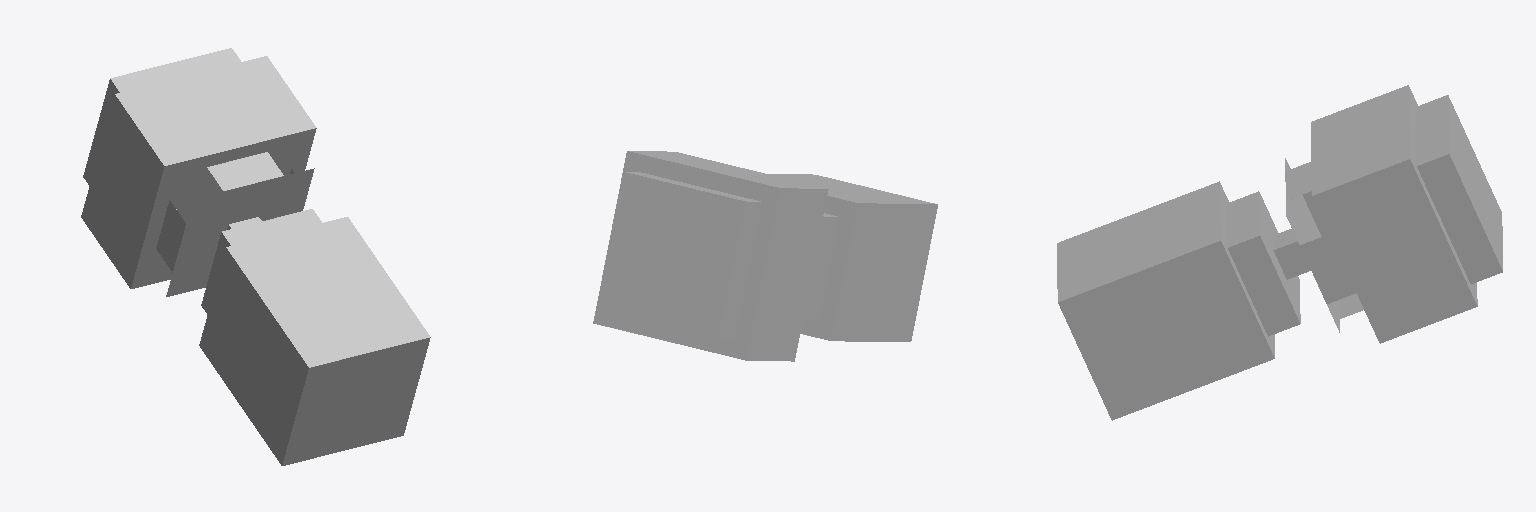
The model's file is gas_burner.obj.
3 renders of one model, left to right at view 1: azimuth 30°, elevation 25°; view 2: azimuth 150°, elevation 25°; view 3: azimuth 270°, elevation 25°, orthographic.
Parts seen in each view (by area): view 1: Gas Container, Kettle Base, B. Holder, cube, Gas Container Top, S.  Holder, W. Holder; view 2: cube, Kettle Base, Gas Container, Gas Container Top; view 3: Gas Container, Kettle Base, cube, Gas Container Top, E. Holder, B. Holder, Gas Valve, S.  Holder.
Boxes of the visible parts, box(x1,y1,x2,y2) form: Gas Container: box(199, 217, 430, 465); Kettle Base: box(81, 56, 316, 288); B. Holder: box(166, 168, 314, 296); cube: box(83, 48, 240, 185); Gas Container Top: box(201, 209, 321, 314); S.  Holder: box(207, 152, 283, 190); W. Holder: box(156, 200, 185, 272); cube: box(596, 172, 761, 339); Kettle Base: box(593, 151, 828, 361); Gas Container: box(769, 174, 937, 341); Gas Container Top: box(803, 213, 838, 319); Gas Container: box(1057, 181, 1274, 420); Kettle Base: box(1311, 85, 1477, 343); cube: box(1416, 95, 1502, 283); Gas Container Top: box(1227, 191, 1300, 336); E. Holder: box(1300, 234, 1355, 303); B. Holder: box(1285, 158, 1339, 332); Gas Valve: box(1273, 229, 1310, 279); S.  Holder: box(1285, 161, 1311, 200).
Bounding box in the file's own units: 0.3141 × 0.5239 × 0.7906.